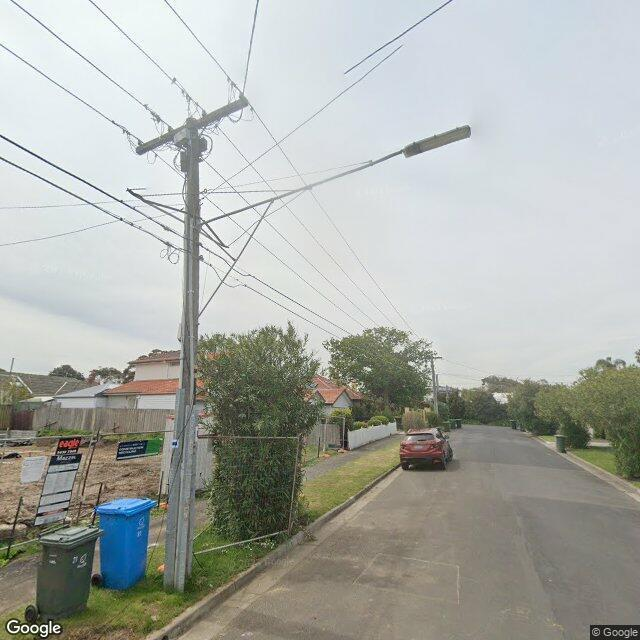crossarm: (110, 75, 258, 168), (422, 356, 443, 360)
streetlight: (201, 122, 473, 226)
timber-pole: (162, 117, 200, 592), (432, 352, 438, 413)
